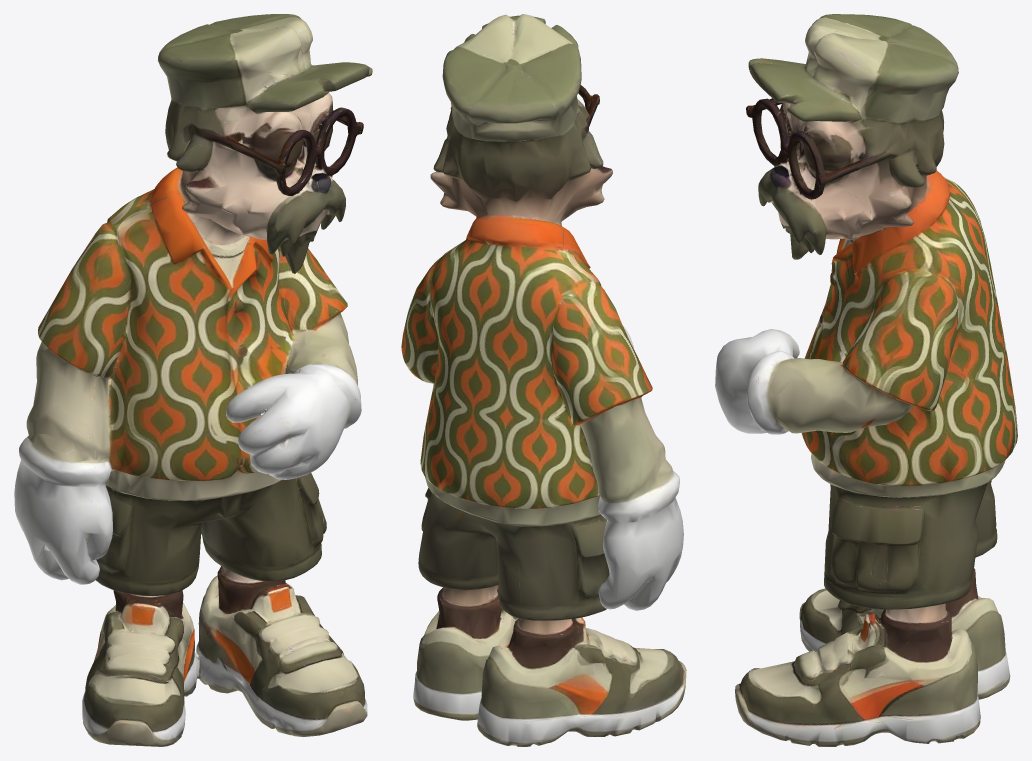
The model's file is b_retro.glb.
3 views of the same model, side by side, from view 1: azimuth 30°, elevation 25°; view 2: azimuth 150°, elevation 25°; view 3: azimuth 270°, elevation 25° (orthographic). The views are drawn at different scales.
Visible parts, largest first — view 1: Mesh_0; view 2: Mesh_0; view 3: Mesh_0.
Boxes of the visible parts, bbox=[...] form: Mesh_0: bbox=[14, 14, 372, 746]; Mesh_0: bbox=[401, 14, 686, 746]; Mesh_0: bbox=[715, 14, 1017, 746].
Size of the model in its own units: 0.8562 by 1.91 by 0.7559.
1 material, 1 textured.
